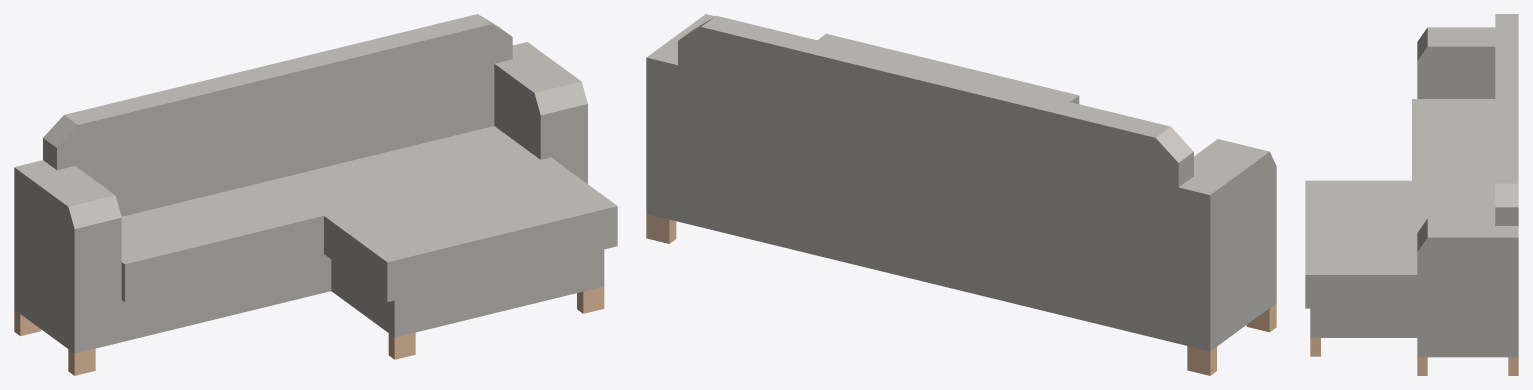
The model's file is sofa-3.glb.
The picture shows the model from 3 angles, left to right: view 1: azimuth 30°, elevation 25°; view 2: azimuth 150°, elevation 25°; view 3: azimuth 270°, elevation 25°; orthographic projection. The views are drawn at different scales.
Visible parts, largest first — view 1: loungeSofaLong(Clone); view 2: loungeSofaLong(Clone); view 3: loungeSofaLong(Clone).
Boxes of the visible parts, x1,y1,x2,y2 form: loungeSofaLong(Clone): [14, 14, 617, 375]; loungeSofaLong(Clone): [646, 14, 1276, 375]; loungeSofaLong(Clone): [1305, 14, 1518, 375].
Bounding box in the file's own units: 2.1 × 0.8 × 0.9001.
